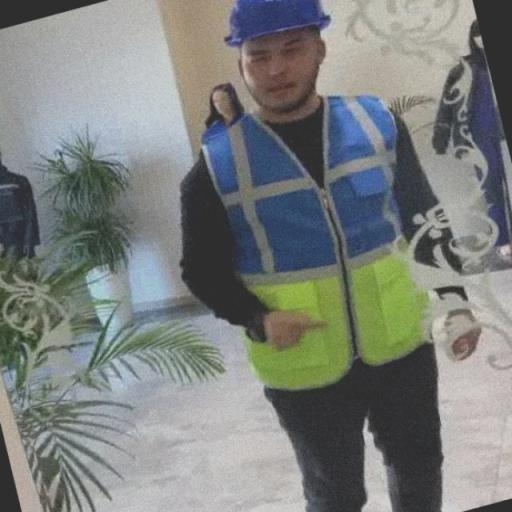Person: (165, 0, 512, 512)
helmet: (208, 0, 339, 43)
vest: (199, 95, 437, 387)
